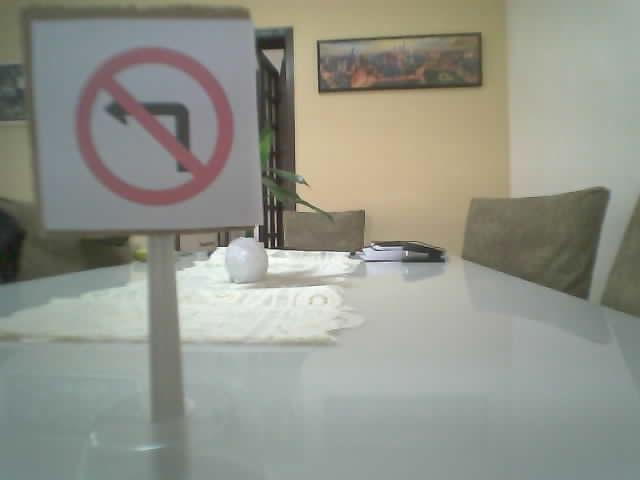R-4a_proibido-esquerda: (73, 46, 234, 205)
